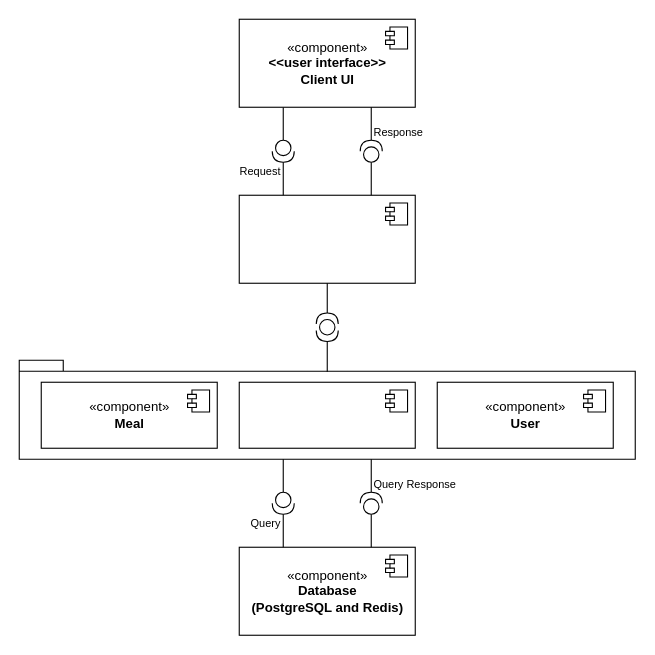
Some shapes in this 655 by 655 pixel diagram are drawn without their labels. Each missing label, with the centre of its shape:
«component» Back-end: the point at 326,238
«component» Restaurant: the point at 326,414
